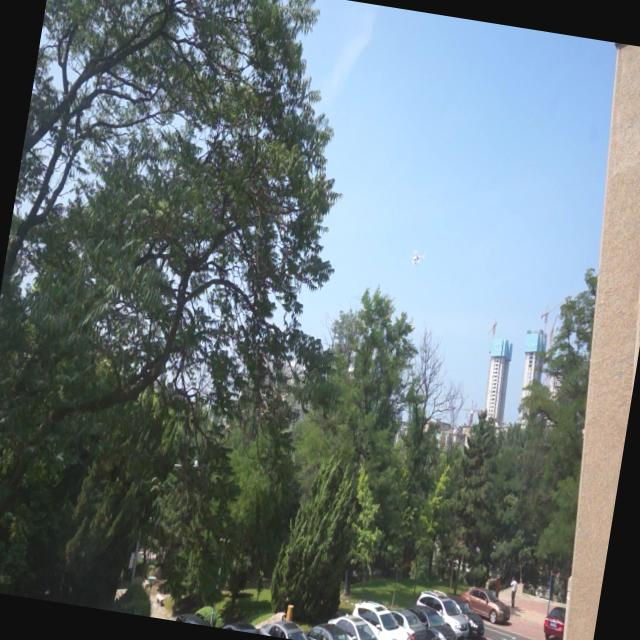drone: (404, 243, 428, 273)
